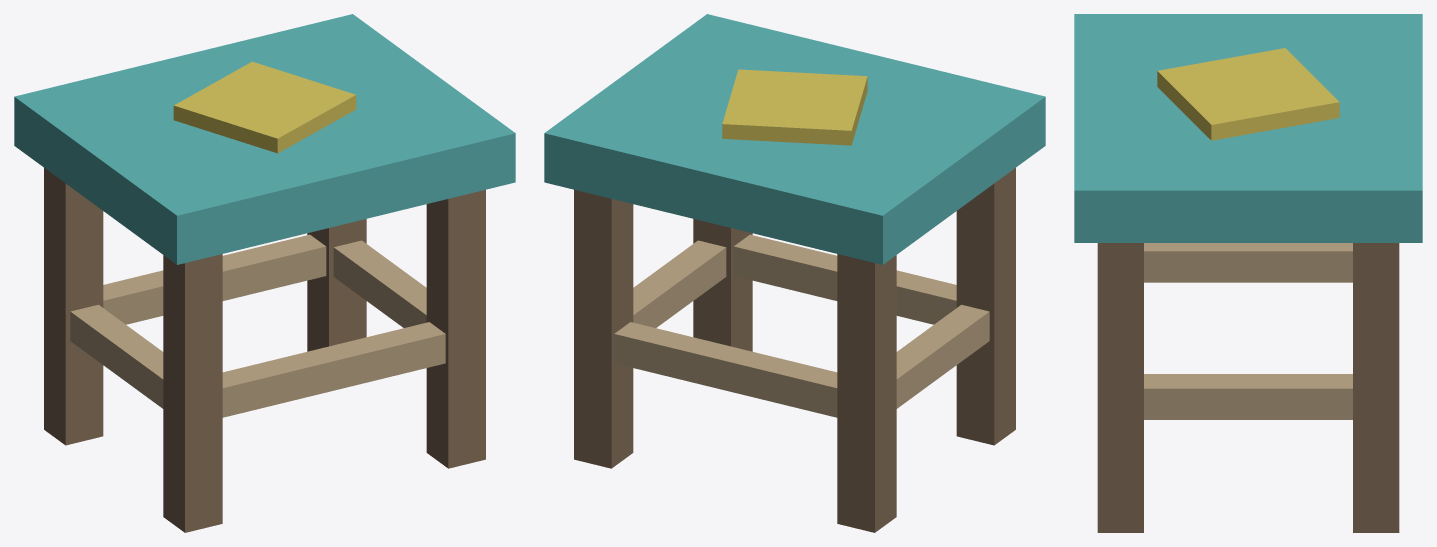
The model's file is kids_banquinho.glb.
The picture shows the model from 3 angles, left to right: view 1: azimuth 30°, elevation 25°; view 2: azimuth 150°, elevation 25°; view 3: azimuth 270°, elevation 25°; orthographic projection. The views are drawn at different scales.
Parts seen in each view (by area): view 1: KIDS_BANQUINHO_v01; view 2: KIDS_BANQUINHO_v01; view 3: KIDS_BANQUINHO_v01.
Boxes of the visible parts, bbox=[...] form: KIDS_BANQUINHO_v01: bbox=[14, 14, 515, 532]; KIDS_BANQUINHO_v01: bbox=[544, 14, 1045, 532]; KIDS_BANQUINHO_v01: bbox=[1074, 14, 1422, 532].
Bounding box in the file's own units: 0.36 × 0.35 × 0.3.
